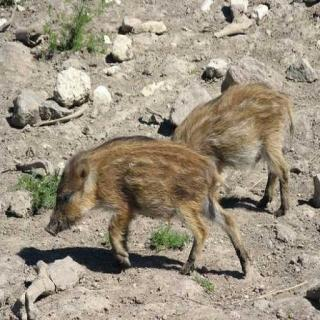Pig: (32, 125, 245, 281), (165, 58, 296, 206)
